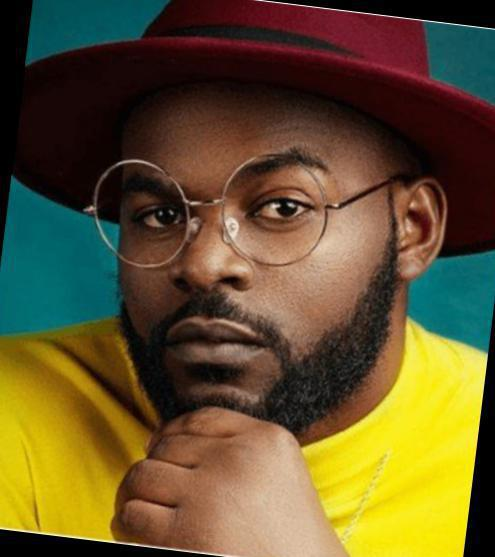Sober: (120, 105, 381, 389)
